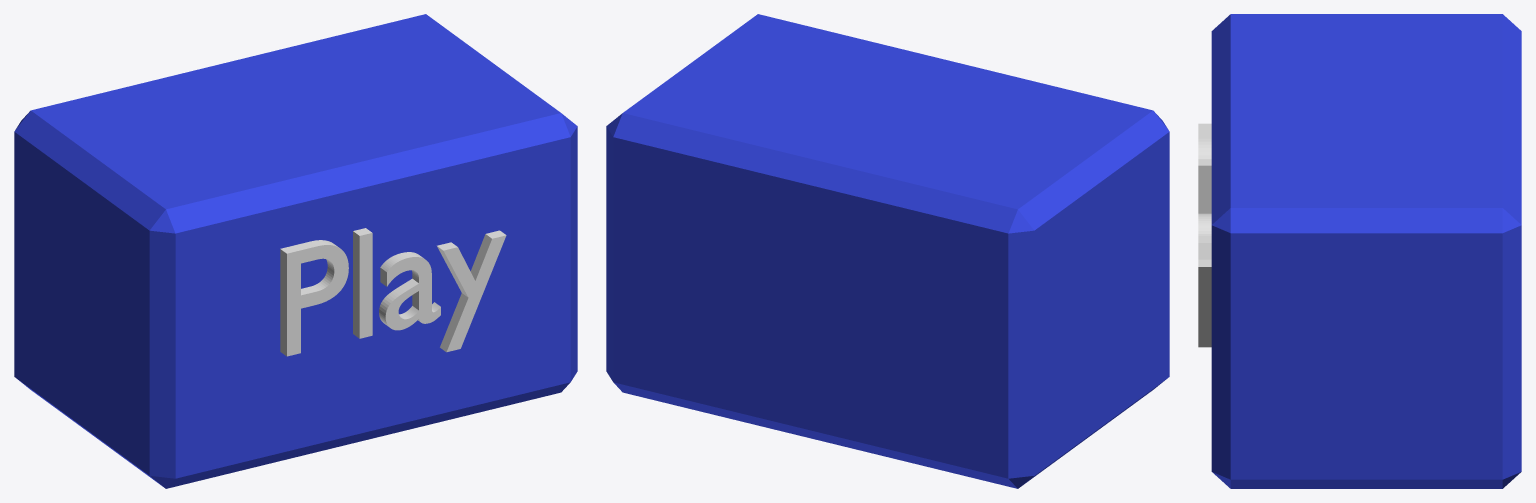
The model's file is play.fbx.
3 renders of one model, left to right at view 1: azimuth 30°, elevation 25°; view 2: azimuth 150°, elevation 25°; view 3: azimuth 270°, elevation 25°, orthographic.
Visible parts, largest first — view 1: Cube, Text; view 2: Cube; view 3: Cube, Text.
Part boxes in pixels (x1,y1,x2,y2): Cube: (14, 14, 577, 488); Text: (280, 228, 506, 356); Cube: (606, 14, 1169, 488); Cube: (1211, 14, 1521, 488); Text: (1198, 123, 1211, 347).
Size of the model in its own units: 320 by 200 by 209.
